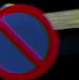No waiting: (0, 2, 62, 77)
